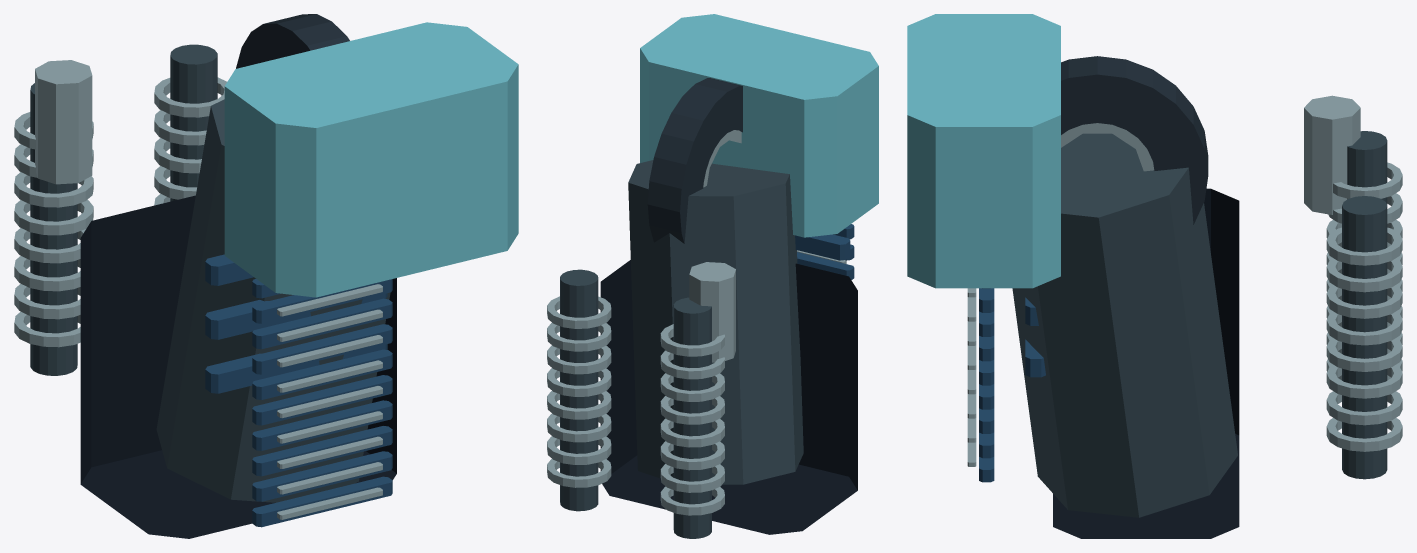
File: enemy_marksman_4k_shin_r.obj
3 renders of one model, left to right at view 1: azimuth 30°, elevation 25°; view 2: azimuth 150°, elevation 25°; view 3: azimuth 270°, elevation 25°, orthographic. The views are drawn at different scales.
Bounding box in the file's own units: 0.3988 × 0.597 × 0.612.
